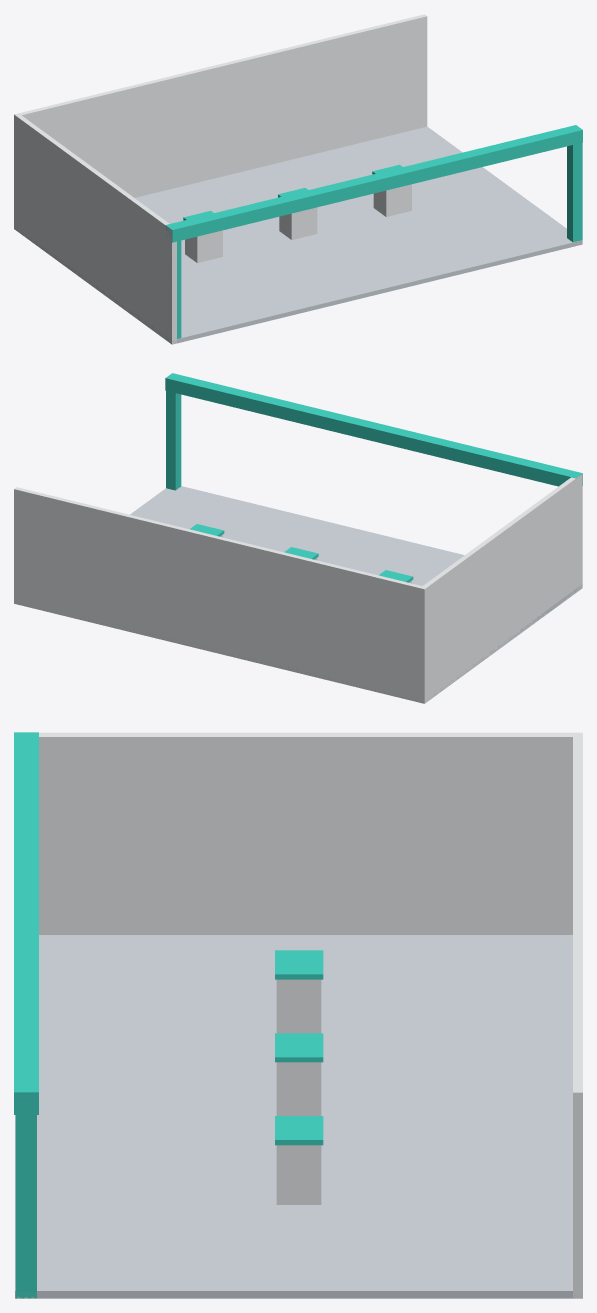
The picture shows the model from 3 angles, top to bottom: view 1: azimuth 30°, elevation 25°; view 2: azimuth 150°, elevation 25°; view 3: azimuth 270°, elevation 25°; orthographic projection. The views are drawn at different scales.
Parts seen in each view (by area): view 1: Exhibition Booth Concept; view 2: Exhibition Booth Concept; view 3: Exhibition Booth Concept.
Part boxes in pixels (x1=…): Exhibition Booth Concept: x1=14, y1=14, x2=582, y2=344; Exhibition Booth Concept: x1=14, y1=373, x2=582, y2=703; Exhibition Booth Concept: x1=14, y1=732, x2=582, y2=1298.
Bounding box in the file's own units: 12 × 3.2 × 8.01.
